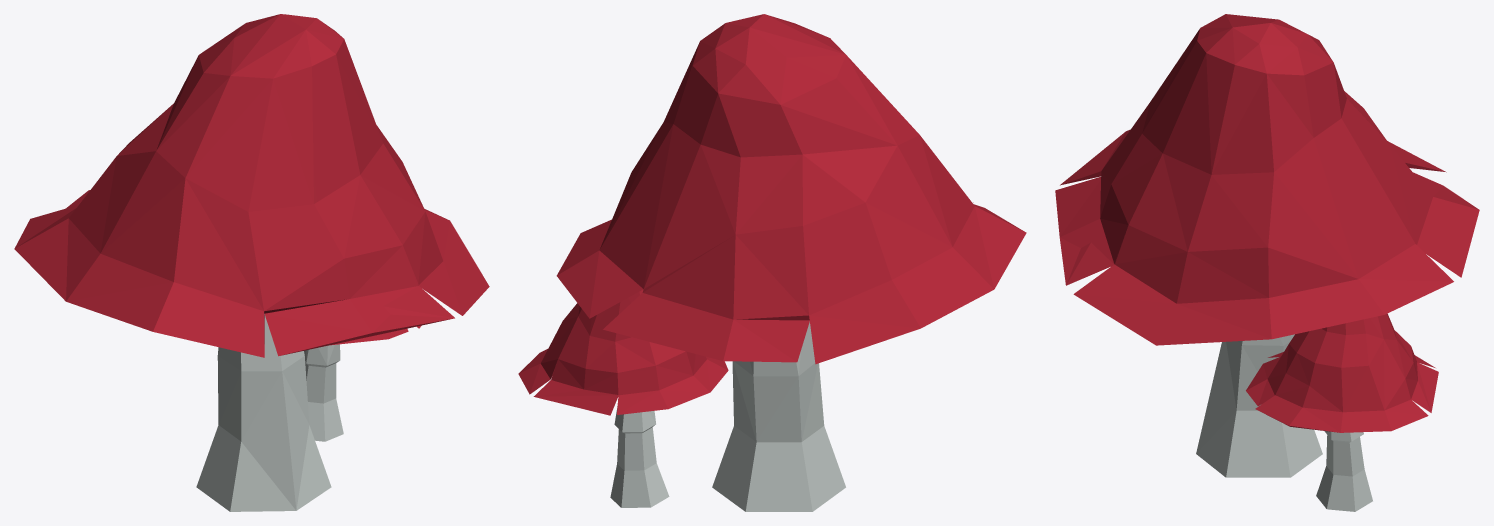
The model's file is mushroom.fbx.
The picture shows the model from 3 angles, left to right: view 1: azimuth 30°, elevation 25°; view 2: azimuth 150°, elevation 25°; view 3: azimuth 270°, elevation 25°; orthographic projection. The views are drawn at different scales.
Visible parts, largest first — view 1: Mushroom_04; view 2: Mushroom_04; view 3: Mushroom_04.
Part boxes in pixels (<box>): Mushroom_04: <box>14,14,489,511</box>; Mushroom_04: <box>518,14,1026,511</box>; Mushroom_04: <box>1055,14,1479,511</box>.
Bounding box in the file's own units: 145 × 159 × 138.
